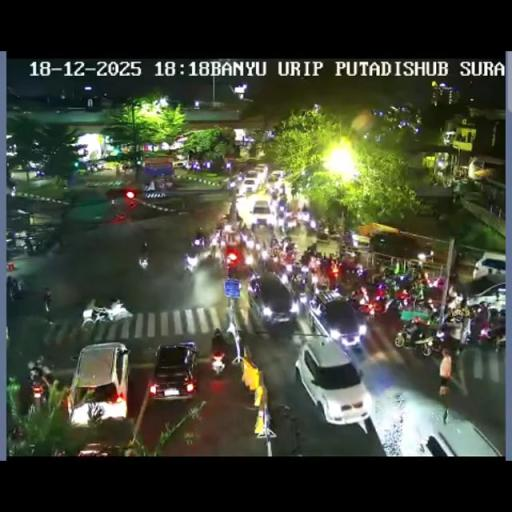Car: (294, 338, 372, 427), (66, 342, 130, 426), (306, 290, 368, 350), (424, 413, 502, 455), (246, 272, 294, 334), (148, 342, 198, 400), (466, 281, 506, 312), (221, 228, 247, 274), (472, 252, 505, 282), (76, 442, 123, 456), (250, 199, 274, 226), (241, 178, 259, 194), (253, 163, 268, 180), (172, 159, 190, 169), (269, 170, 285, 180)
Motorcycle: (394, 318, 441, 354), (262, 236, 300, 274), (351, 282, 391, 315), (444, 300, 470, 346), (478, 318, 506, 350), (400, 298, 436, 322), (210, 329, 227, 373), (8, 425, 30, 455), (29, 370, 47, 406), (106, 298, 131, 322), (80, 304, 101, 331), (24, 234, 52, 254), (340, 260, 365, 282), (6, 234, 26, 258), (369, 268, 393, 287), (394, 286, 412, 307), (410, 280, 426, 303), (183, 252, 199, 274), (424, 274, 446, 290), (342, 229, 358, 250), (295, 208, 312, 227), (293, 270, 308, 291), (42, 286, 52, 316), (191, 234, 209, 250), (9, 284, 24, 301), (300, 250, 314, 268), (328, 263, 341, 282), (315, 226, 330, 242), (243, 235, 256, 251), (326, 219, 338, 236), (213, 229, 224, 247), (226, 177, 240, 191), (118, 162, 133, 174), (138, 254, 149, 270), (289, 298, 300, 314), (277, 212, 286, 231), (244, 250, 254, 266), (269, 185, 280, 199), (298, 290, 308, 304), (286, 214, 296, 228), (260, 248, 270, 260), (270, 235, 278, 249), (310, 273, 318, 285), (238, 221, 246, 231), (309, 217, 316, 228)
